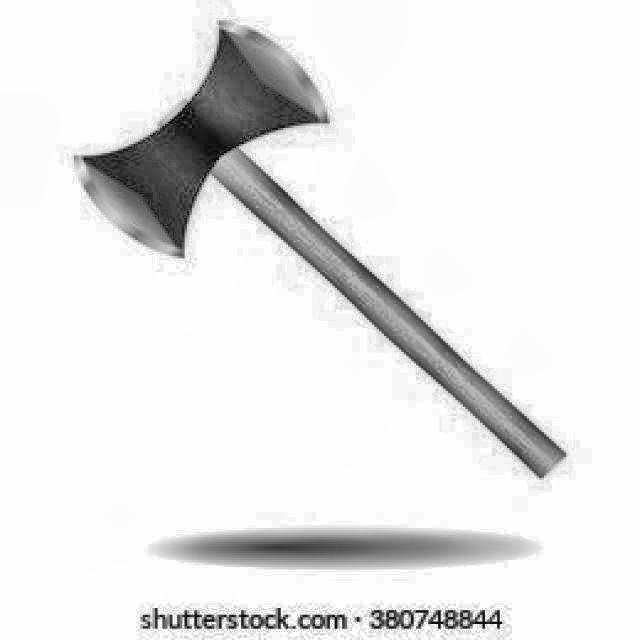kapak: (59, 10, 578, 491)
